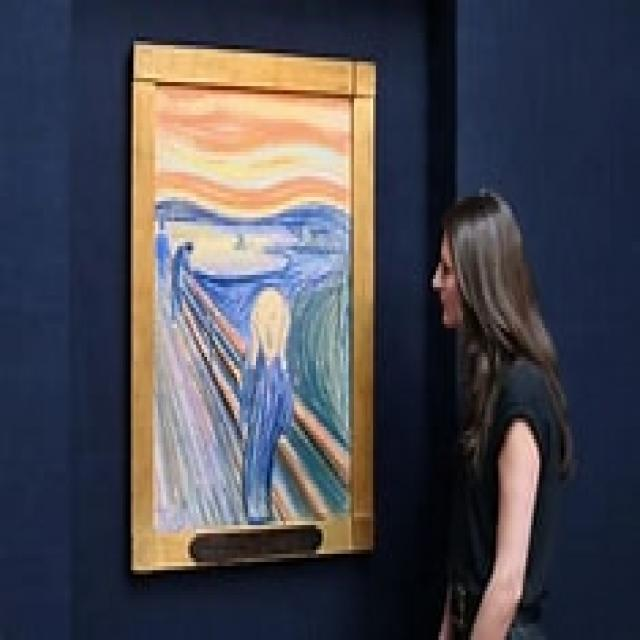skrik: (154, 75, 356, 528)
